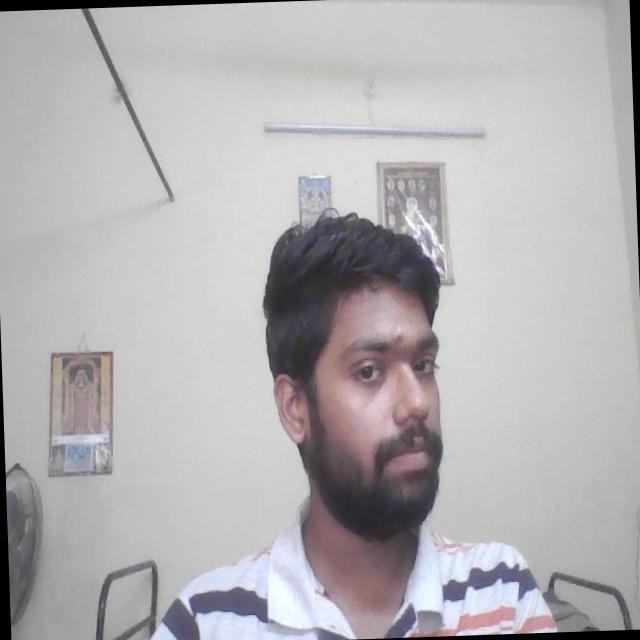Focused: (272, 314, 454, 488)
